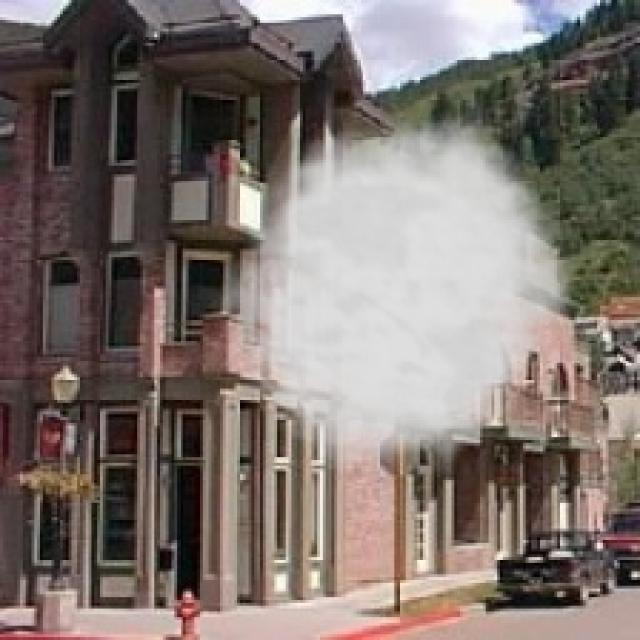Smoke: (208, 100, 583, 477)
